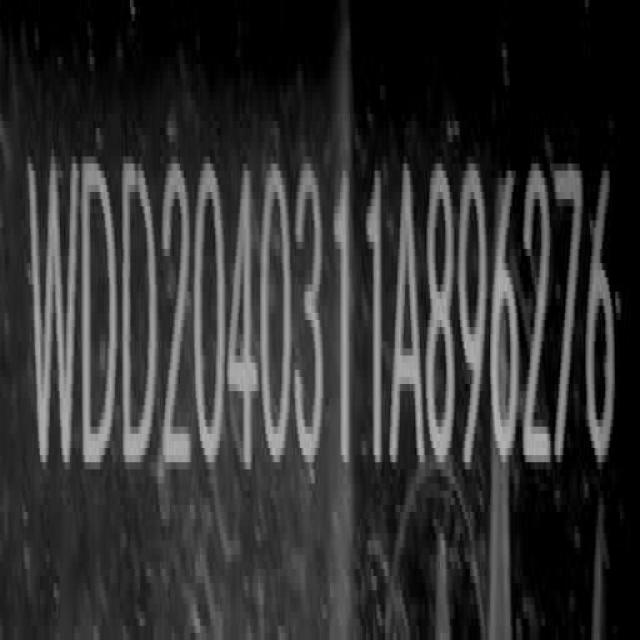0: (197, 153, 228, 474), (261, 154, 292, 472)
1: (334, 160, 355, 476), (364, 160, 384, 476)
2: (160, 155, 193, 477), (522, 156, 554, 479)
3: (293, 158, 328, 477)
4: (227, 152, 260, 472)
6: (587, 153, 622, 467), (491, 155, 521, 479)
7: (556, 152, 585, 475)
8: (426, 155, 456, 484)
9: (459, 159, 490, 482)
A: (391, 154, 426, 478)
D: (118, 148, 160, 476), (82, 150, 122, 480)
W: (27, 145, 82, 463)
